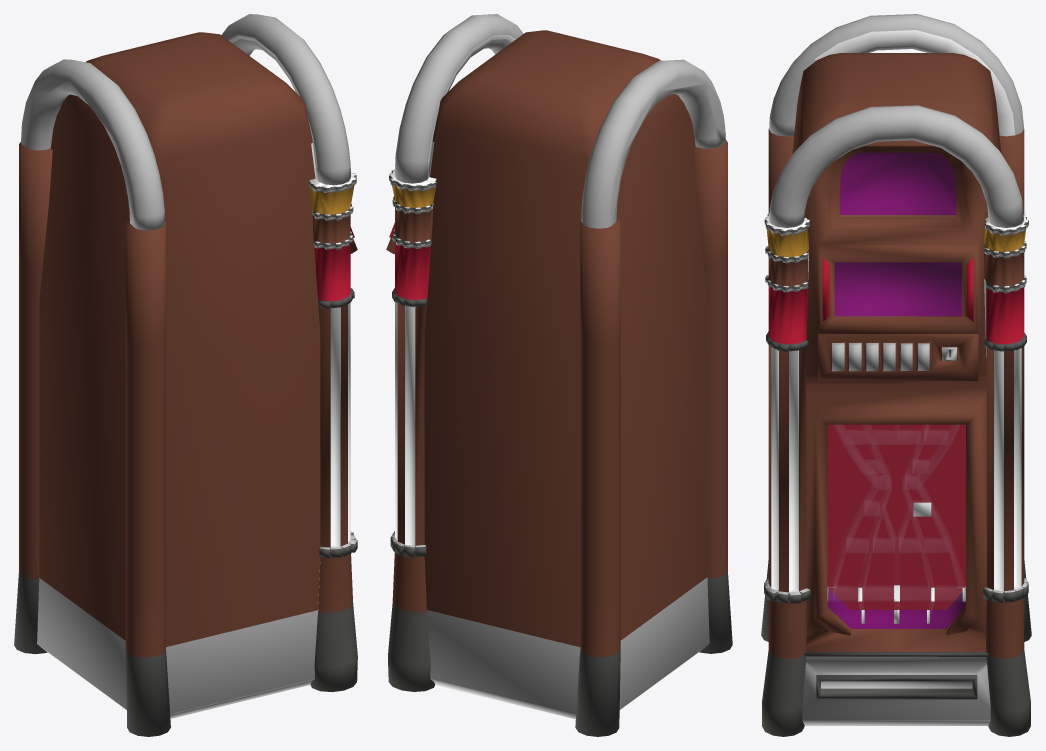
Rendered from jukebox.fbx.
3 views of the same model, side by side, from view 1: azimuth 30°, elevation 25°; view 2: azimuth 150°, elevation 25°; view 3: azimuth 270°, elevation 25° (orthographic).
Visible parts, largest first — view 1: Cube.001; view 2: Cube.001; view 3: Cube.001.
Boxes of the visible parts, x1,y1,x2,y2 form: Cube.001: (14, 14, 357, 736); Cube.001: (386, 14, 732, 736); Cube.001: (761, 14, 1031, 736).
Bounding box in the file's own units: 110 × 263 × 104.
